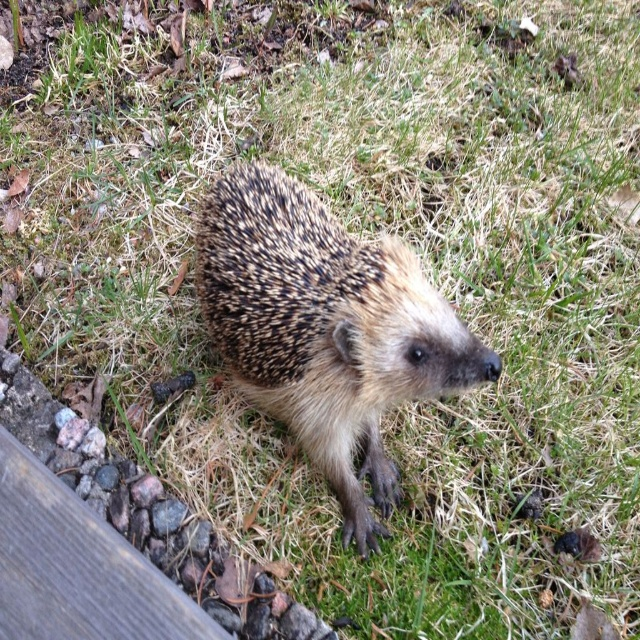Hedgehog: (193, 155, 503, 563)
